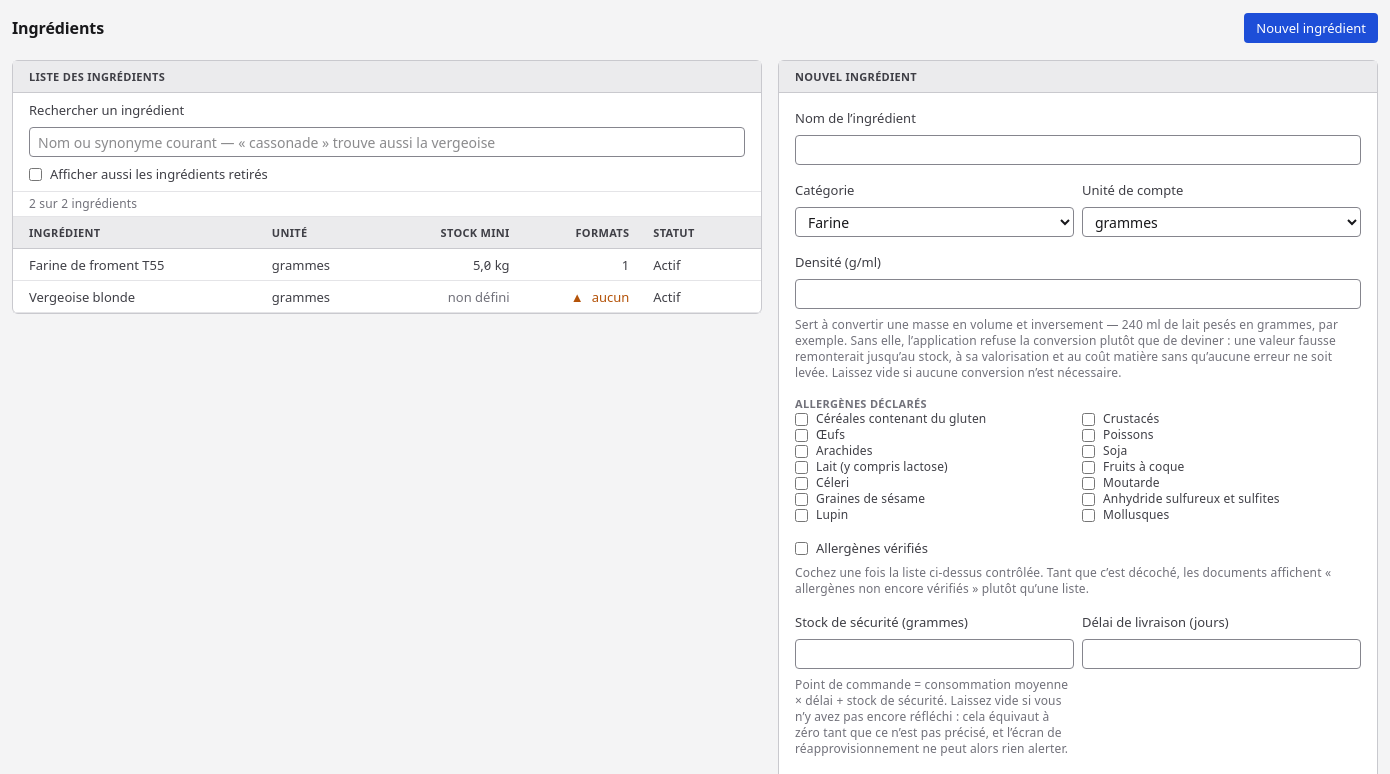
Ingrédients — recherche, ingrédients retirés, états vides › une recherche sans résultat explique le RISQUE de doublon, pas seulement « rien trouvé »
This screenshot has width=1390, height=774.
Expected: the text "Farine de froment T55" is shown, x1=13 y1=249 x2=260 y2=281
In the search field named "Rechercher un ingrédient par nom ou synonyme": (387, 142) x1=29 y1=127 x2=745 y2=157, type "zzzintrouvable"
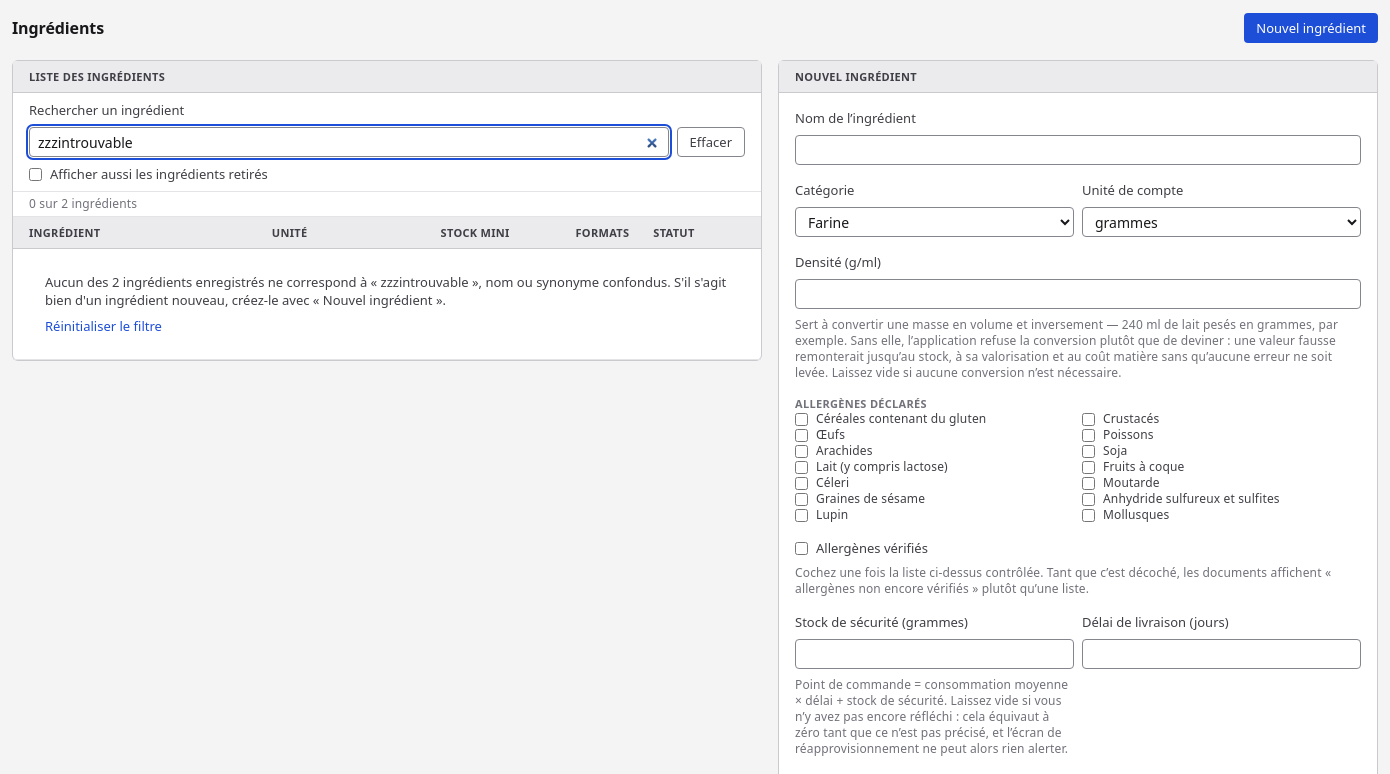
Expected: the text "nom ou synonyme confondus" is shown, x1=45 y1=273 x2=726 y2=309
